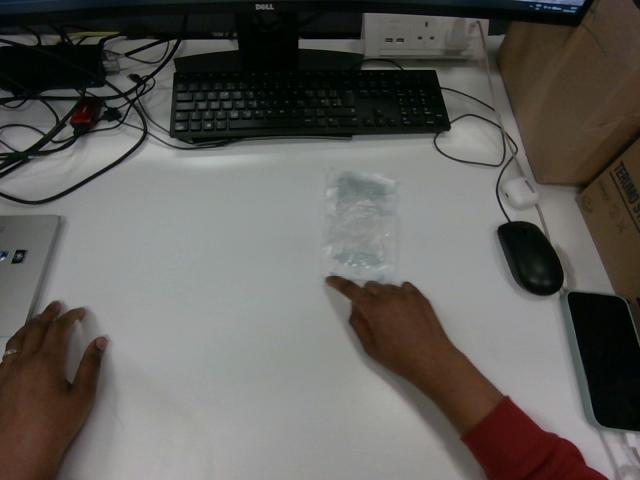gallipot: (322, 169, 397, 282)
